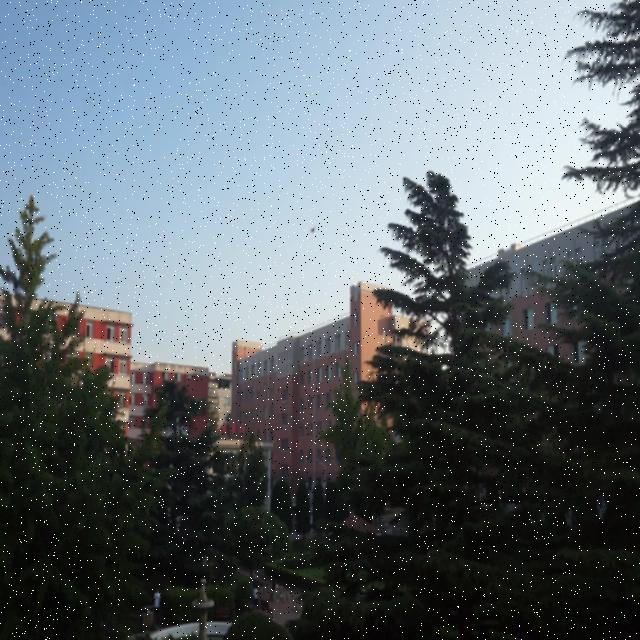UAV: (309, 225, 316, 235)
